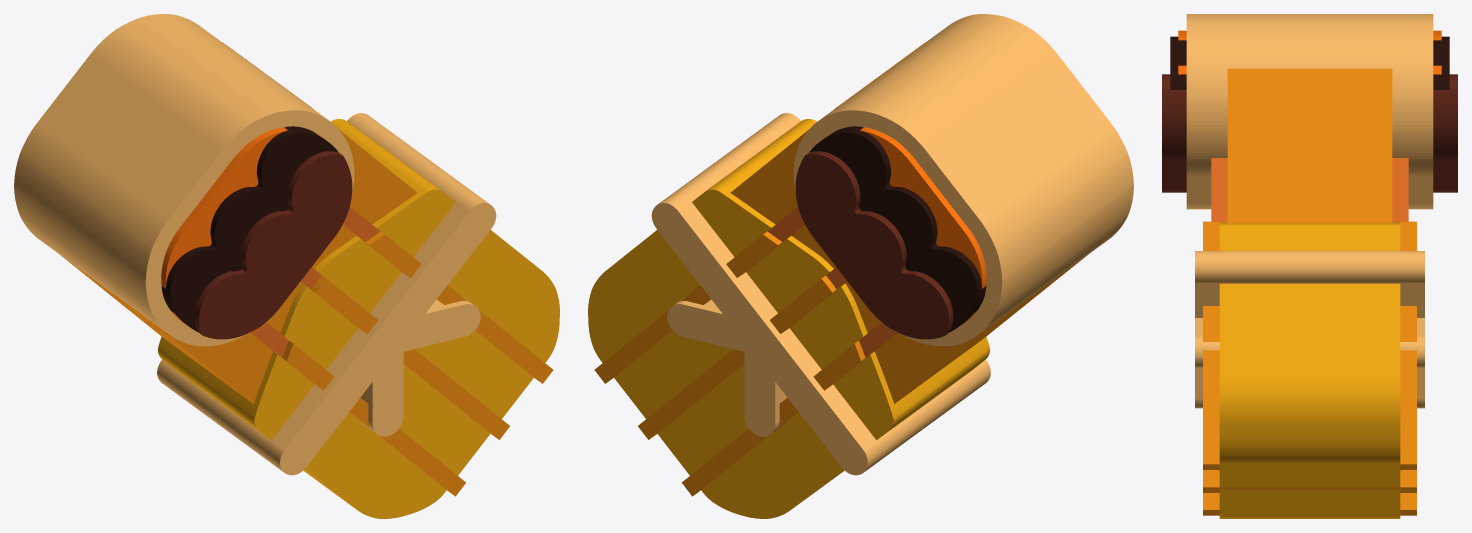
The model's file is U+1FAD4.obj.
3 renders of one model, left to right at view 1: azimuth 30°, elevation 25°; view 2: azimuth 150°, elevation 25°; view 3: azimuth 270°, elevation 25°, orthographic. The views are drawn at different scales.
Parts seen in each view (by area): view 1: U+1FAD4_layer05_obj00, U+1FAD4_layer01_obj00, U+1FAD4_layer04_obj00, U+1FAD4_layer08_obj00, U+1FAD4_layer03_obj00, U+1FAD4_layer07_obj00, U+1FAD4_layer00_obj00, U+1FAD4_layer06_obj00, U+1FAD4_layer02_obj00; view 2: U+1FAD4_layer05_obj00, U+1FAD4_layer01_obj00, U+1FAD4_layer04_obj00, U+1FAD4_layer08_obj00, U+1FAD4_layer03_obj00, U+1FAD4_layer07_obj00, U+1FAD4_layer00_obj00, U+1FAD4_layer06_obj00, U+1FAD4_layer02_obj00; view 3: U+1FAD4_layer01_obj00, U+1FAD4_layer00_obj00, U+1FAD4_layer05_obj00, U+1FAD4_layer04_obj00, U+1FAD4_layer03_obj00, U+1FAD4_layer08_obj00, U+1FAD4_layer02_obj00, U+1FAD4_layer07_obj00, U+1FAD4_layer06_obj00.
Boxes of the visible parts, bbox=[...] form: U+1FAD4_layer05_obj00: bbox=[14, 14, 354, 346]; U+1FAD4_layer01_obj00: bbox=[157, 119, 559, 518]; U+1FAD4_layer04_obj00: bbox=[157, 113, 496, 475]; U+1FAD4_layer08_obj00: bbox=[194, 151, 352, 339]; U+1FAD4_layer03_obj00: bbox=[282, 231, 553, 496]; U+1FAD4_layer07_obj00: bbox=[161, 126, 338, 332]; U+1FAD4_layer00_obj00: bbox=[60, 42, 417, 403]; U+1FAD4_layer06_obj00: bbox=[161, 127, 325, 322]; U+1FAD4_layer02_obj00: bbox=[250, 207, 405, 386]; U+1FAD4_layer05_obj00: bbox=[793, 14, 1133, 346]; U+1FAD4_layer01_obj00: bbox=[588, 119, 990, 518]; U+1FAD4_layer04_obj00: bbox=[651, 113, 990, 475]; U+1FAD4_layer08_obj00: bbox=[795, 151, 953, 339]; U+1FAD4_layer03_obj00: bbox=[594, 231, 865, 496]; U+1FAD4_layer07_obj00: bbox=[809, 126, 986, 332]; U+1FAD4_layer00_obj00: bbox=[730, 42, 1087, 403]; U+1FAD4_layer06_obj00: bbox=[822, 127, 986, 322]; U+1FAD4_layer02_obj00: bbox=[742, 207, 897, 386]; U+1FAD4_layer01_obj00: bbox=[1219, 222, 1400, 518]; U+1FAD4_layer00_obj00: bbox=[1227, 68, 1392, 223]; U+1FAD4_layer05_obj00: bbox=[1186, 14, 1433, 209]; U+1FAD4_layer04_obj00: bbox=[1195, 251, 1424, 408]; U+1FAD4_layer03_obj00: bbox=[1203, 221, 1416, 515]; U+1FAD4_layer08_obj00: bbox=[1162, 74, 1457, 192]; U+1FAD4_layer02_obj00: bbox=[1211, 158, 1408, 221]; U+1FAD4_layer07_obj00: bbox=[1170, 36, 1449, 89]; U+1FAD4_layer06_obj00: bbox=[1178, 30, 1441, 74].
Bounding box in the file's own units: 0.5678 × 0.5677 × 0.36.
